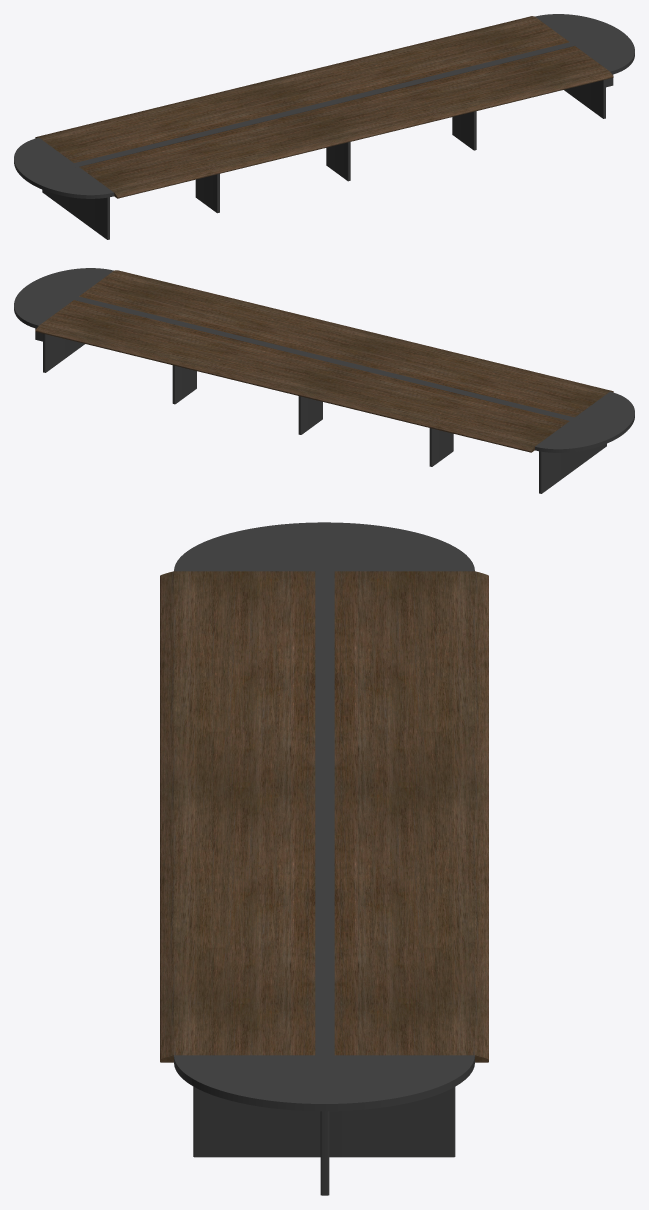
The model's file is table1.FBX.
The picture shows the model from 3 angles, top to bottom: view 1: azimuth 30°, elevation 25°; view 2: azimuth 150°, elevation 25°; view 3: azimuth 270°, elevation 25°; orthographic projection. The views are drawn at different scales.
Parts seen in each view (by area): view 1: Table1; view 2: Table1; view 3: Table1.
Boxes of the visible parts, bbox=[...] form: Table1: bbox=[14, 14, 634, 239]; Table1: bbox=[14, 268, 634, 493]; Table1: bbox=[160, 522, 488, 1195].
Bounding box in the file's own units: 9326 × 2230 × 755.
Materials: 2 (1 with a texture image).
